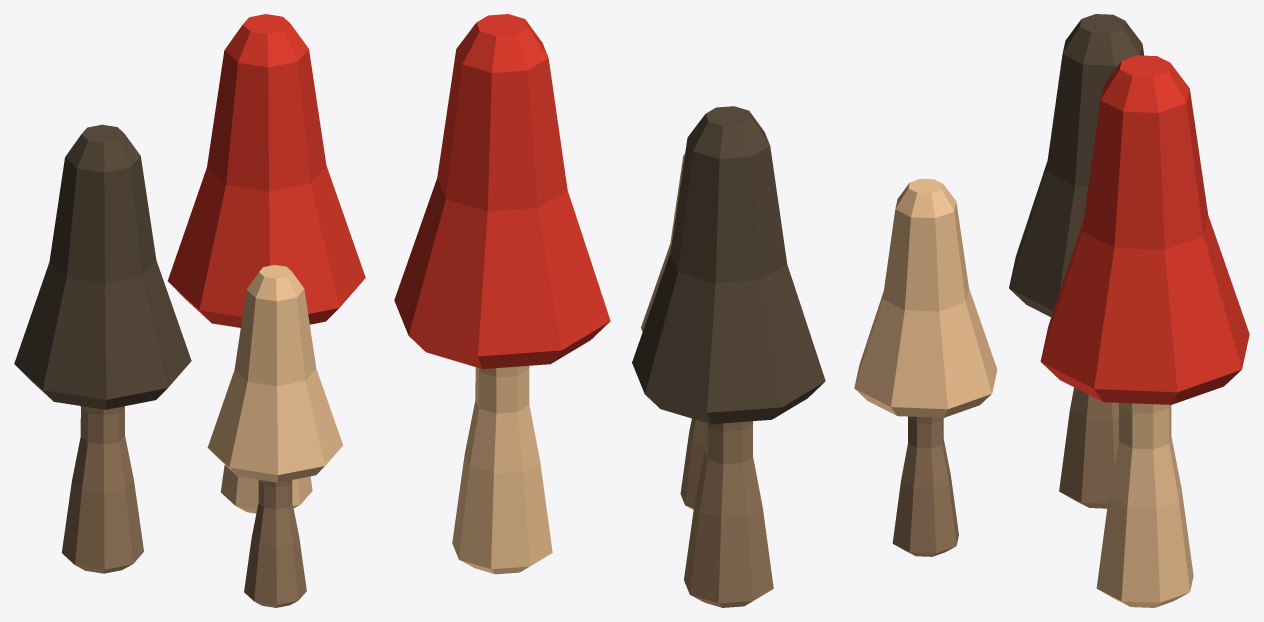
Rendered from Mushroom 5.fbx.
3 renders of one model, left to right at view 1: azimuth 30°, elevation 25°; view 2: azimuth 150°, elevation 25°; view 3: azimuth 270°, elevation 25°, orthographic. The views are drawn at different scales.
Parts seen in each view (by area): view 1: Mushroom 3; view 2: Mushroom 3; view 3: Mushroom 3.
Part boxes in pixels (<box>): Mushroom 3: <box>14,14,365,607</box>; Mushroom 3: <box>394,14,825,607</box>; Mushroom 3: <box>854,14,1249,607</box>.
Size of the model in its own units: 13.85 by 18.79 by 12.69.
